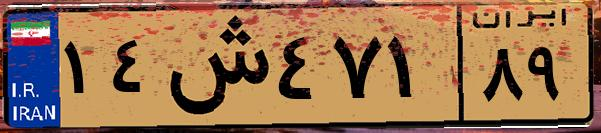1: (385, 28, 445, 110), (57, 26, 110, 100)
4: (270, 28, 330, 110), (110, 28, 158, 98)
7: (330, 28, 385, 110)
8: (475, 38, 525, 113)
9: (525, 38, 570, 115)
ش: (158, 12, 270, 120)
